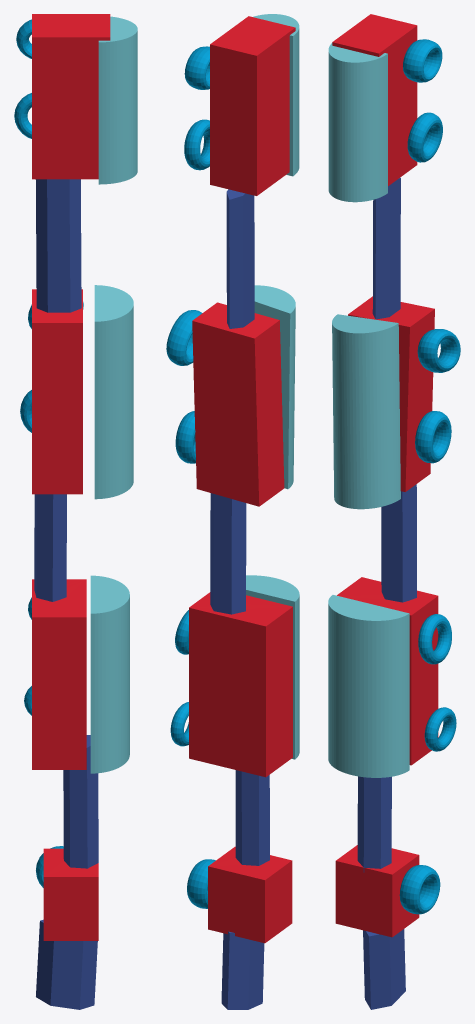
File: tinker.obj
The picture shows the model from 3 angles, left to right: view 1: azimuth 90°, elevation 25°; view 2: azimuth 150°, elevation 25°; view 3: azimuth 330°, elevation 25°; orthographic projection.
Visible parts, largest first — view 1: group_0_15277357, group_0_7720667, group_0_3888547, group_0_40919; view 2: group_0_15277357, group_0_3888547, group_0_7720667, group_0_40919; view 3: group_0_7720667, group_0_15277357, group_0_3888547, group_0_40919.
Boxes of the visible parts, x1,y1,x2,y2 form: group_0_15277357: (32,14,110,940); group_0_7720667: (90,16,137,773); group_0_3888547: (34,179,98,1009); group_0_40919: (14,19,83,887); group_0_15277357: (189,16,295,943); group_0_3888547: (210,189,269,1009); group_0_7720667: (246,14,299,759); group_0_40919: (166,46,215,908); group_0_7720667: (328,43,409,777); group_0_15277357: (332,14,438,937); group_0_3888547: (357,177,416,1009); group_0_40919: (399,39,460,914).
Size of the model in its own units: 30 by 277 by 31.5.
